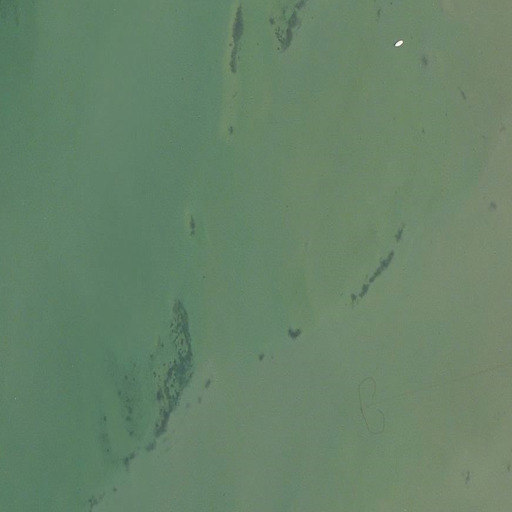ship: (394, 39, 403, 48)
